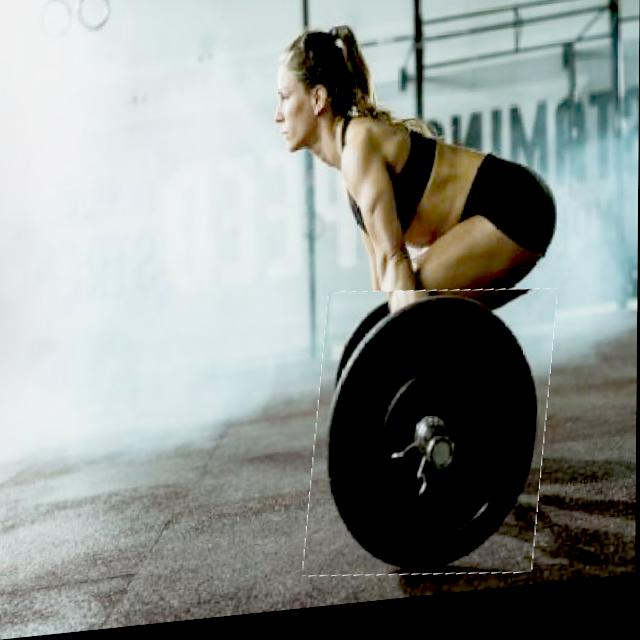barbell: (310, 287, 553, 598)
